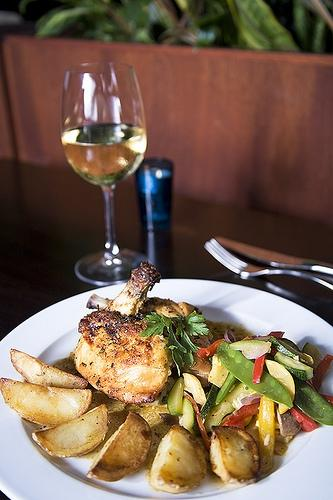green bean: (216, 341, 294, 409), (264, 354, 333, 426), (216, 372, 236, 405)
vegetable marrow: (266, 360, 296, 415), (220, 382, 254, 427), (274, 350, 314, 382), (203, 398, 236, 433), (268, 337, 310, 364), (179, 396, 198, 438), (166, 376, 184, 417), (200, 384, 218, 420), (302, 342, 322, 374), (228, 340, 266, 351), (277, 337, 301, 352)
